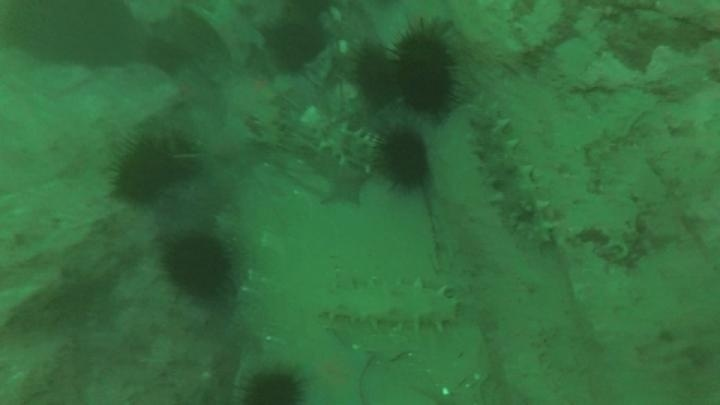echinus: (108, 128, 199, 207), (389, 25, 461, 117), (160, 232, 236, 302), (375, 127, 434, 192), (263, 19, 327, 72), (350, 43, 402, 105), (241, 367, 307, 404), (281, 1, 339, 26)
holothurian: (467, 105, 556, 249), (316, 274, 462, 334), (298, 109, 379, 175), (250, 78, 292, 150)
starfish: (294, 337, 375, 405), (200, 4, 265, 66), (314, 160, 372, 209)
